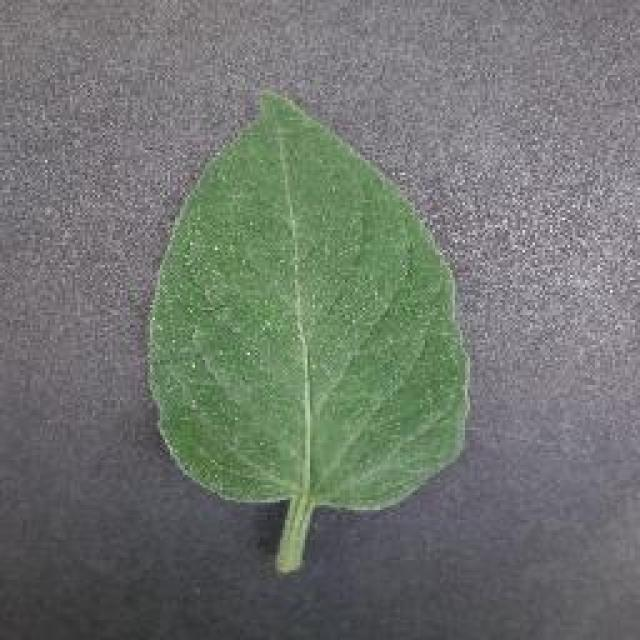Healthy: (135, 85, 477, 580)
